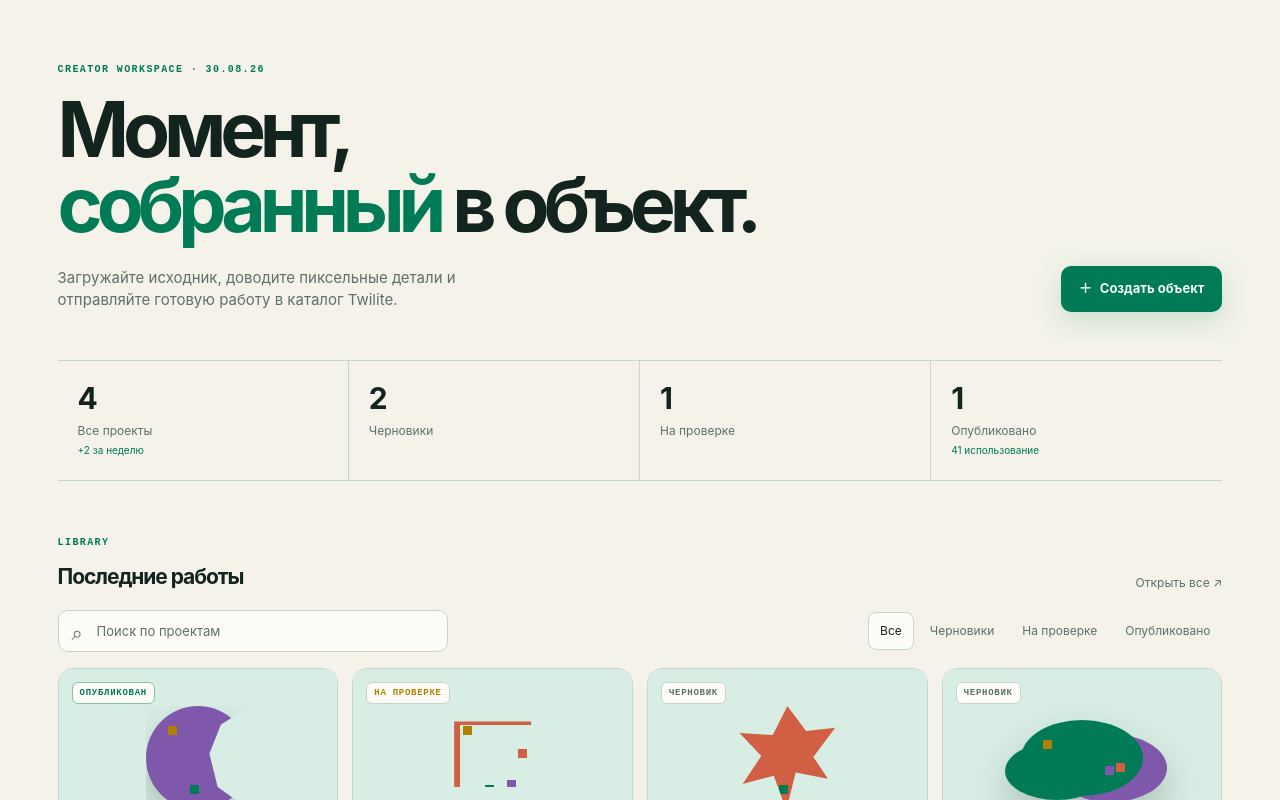
Scenario: HomePage › creates a draft from the create panel
This screenshot has width=1280, height=800.
Click the button "＋ Создать объект".
click(1142, 288)  # box left=1061, top=266, right=1222, bottom=312
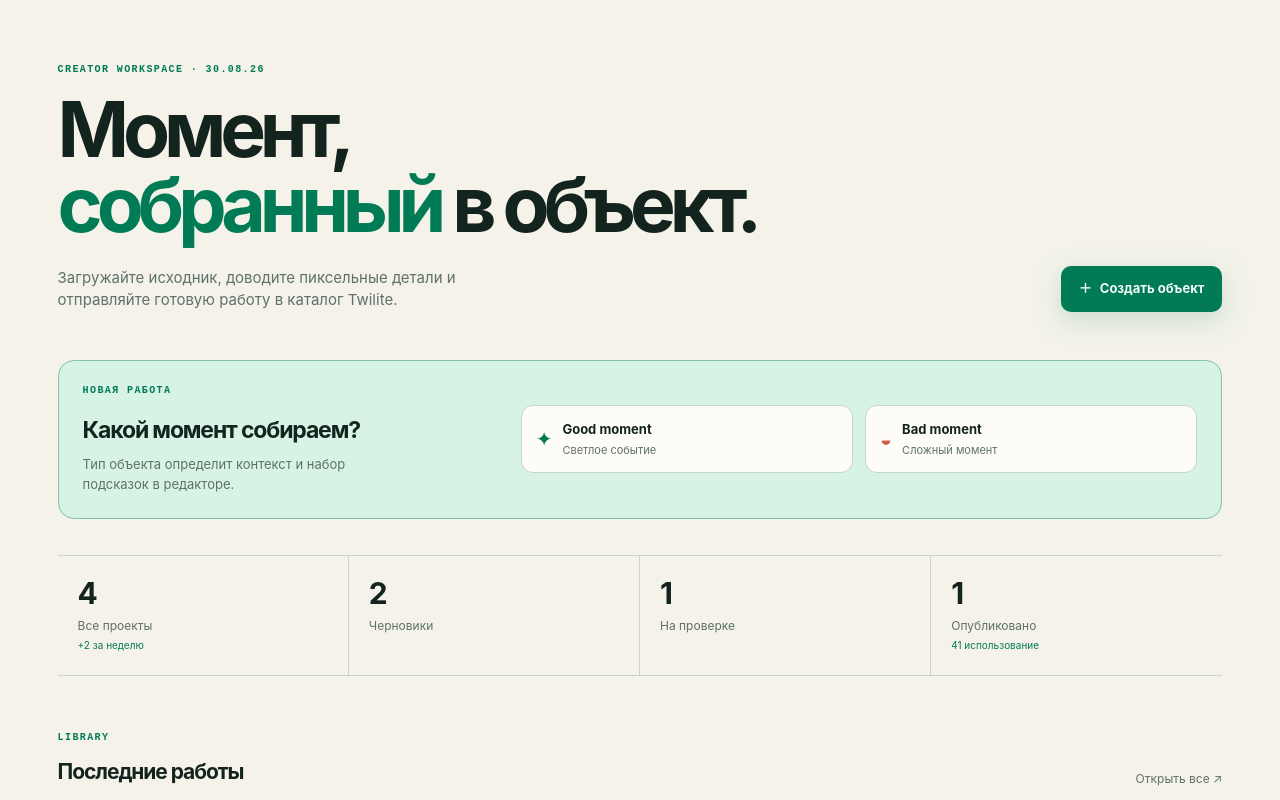
Now the dialog named "Создать объект" is shown, box left=58, top=360, right=1222, bottom=519
Click the button "✦ Good moment Светлое событие".
click(607, 429)  # box left=521, top=405, right=853, bottom=473
(page scrolled)
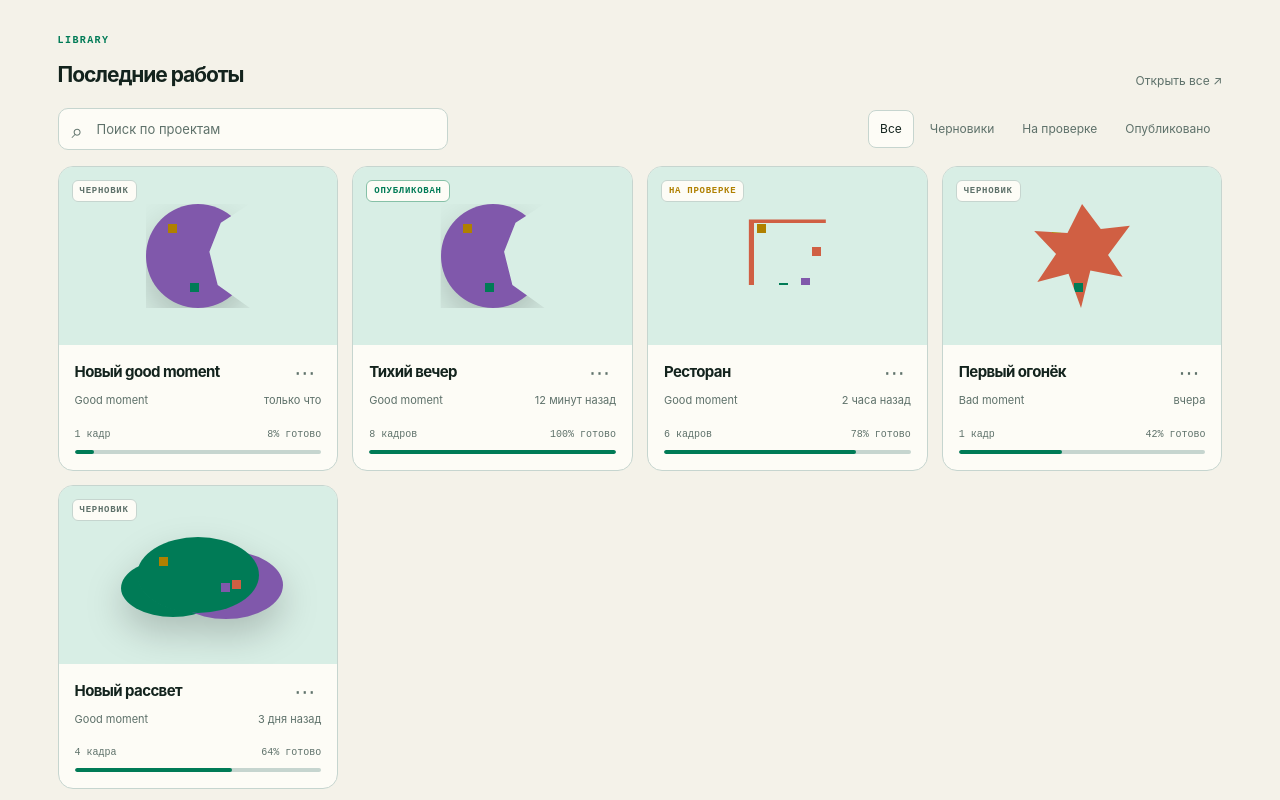
Now the heading "Новый good moment" is shown, box left=75, top=361, right=220, bottom=384
Now the text "только что" is shown, box left=264, top=392, right=321, bottom=408
